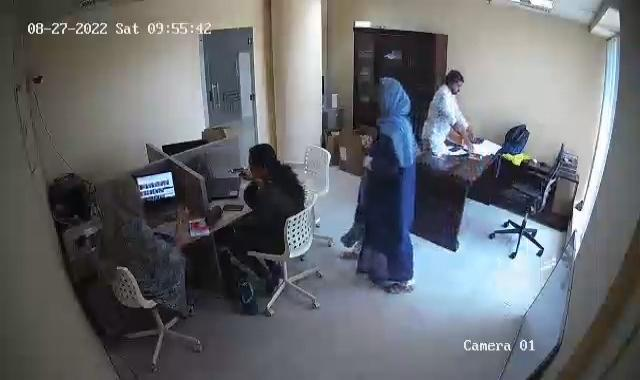no_hairnet: (104, 178, 138, 212), (375, 80, 403, 113), (250, 144, 276, 179), (441, 66, 468, 98)
